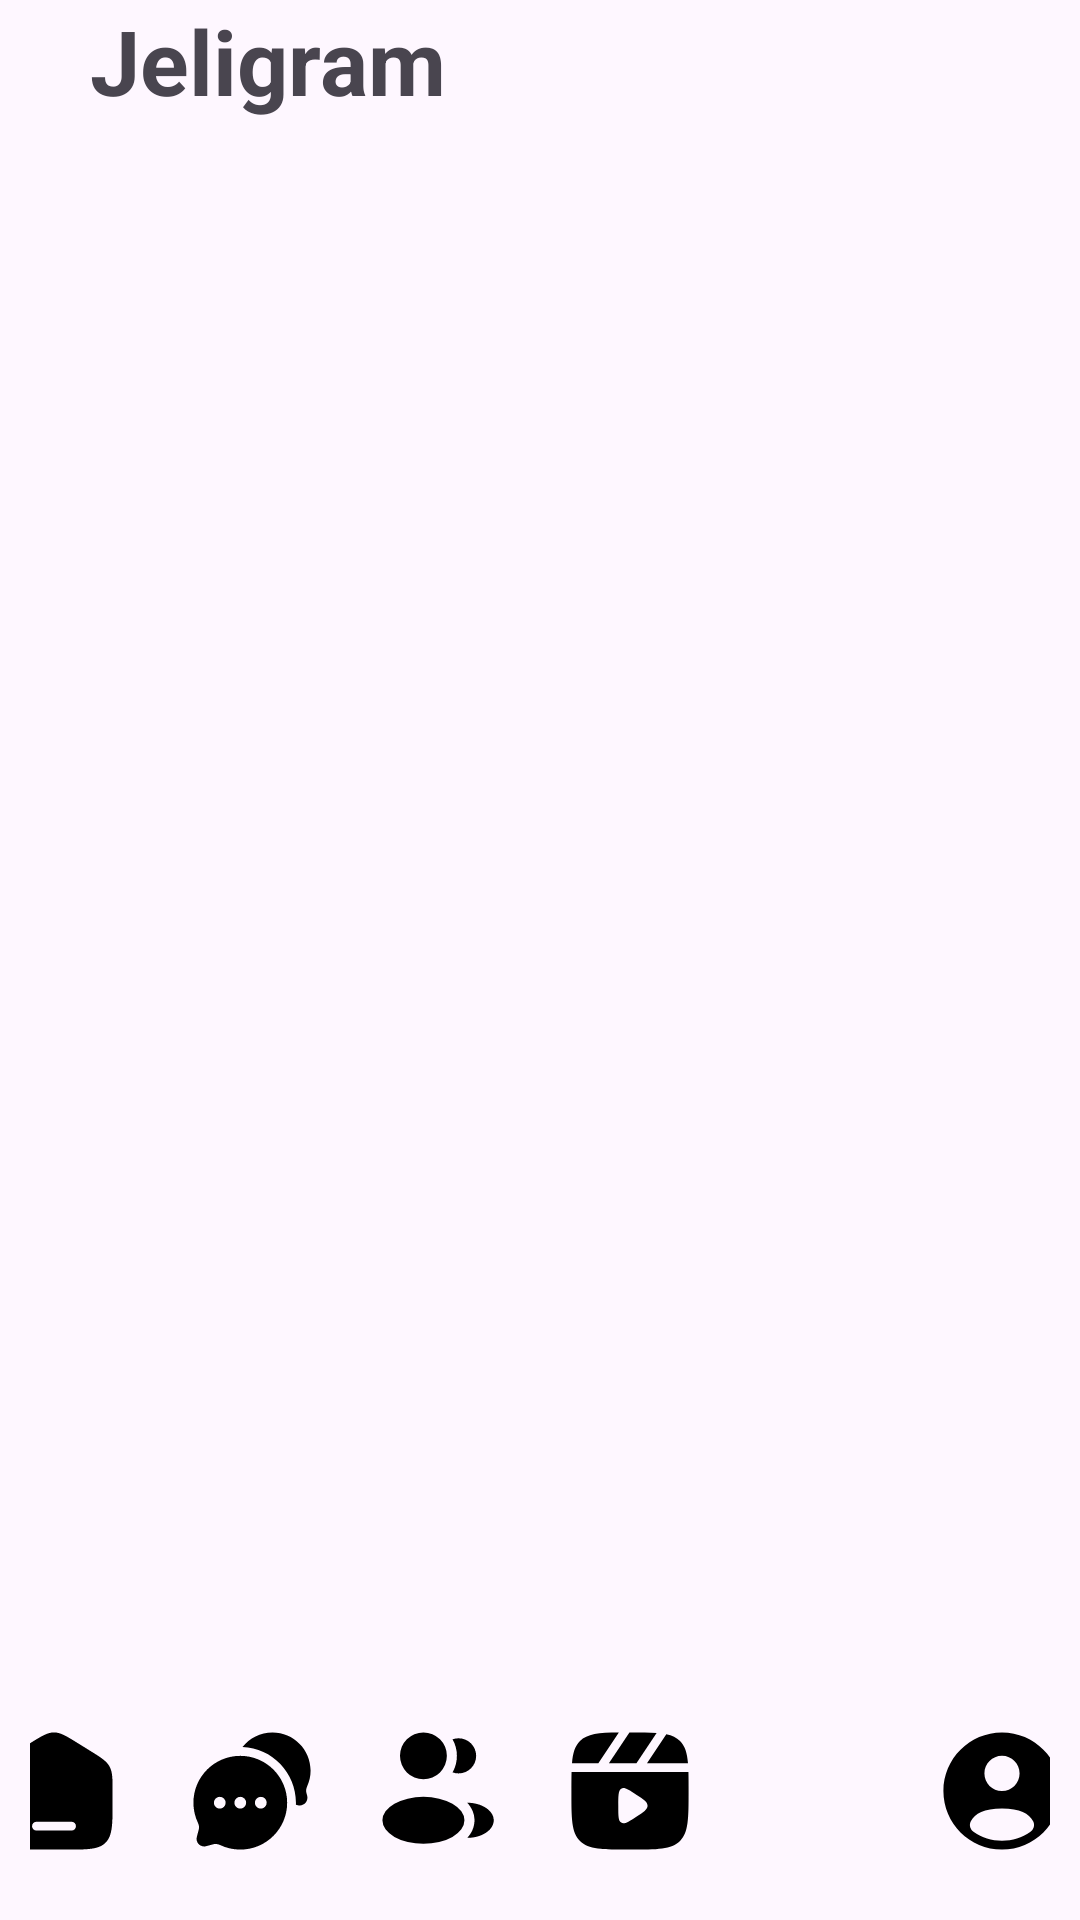

Icons on this 1080x1920 Android screen, each with its box as (x1=x1, y1=y1, x2=x2, y2=y2):
clapperboard play streamline solar: (x1=571, y1=1732, x2=689, y2=1850)
user circle streamline solar: (x1=943, y1=1732, x2=1050, y2=1850)
